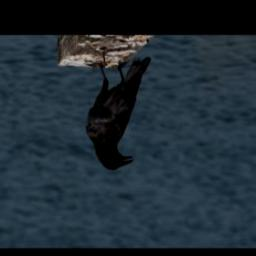Crow: (85, 55, 151, 171)
